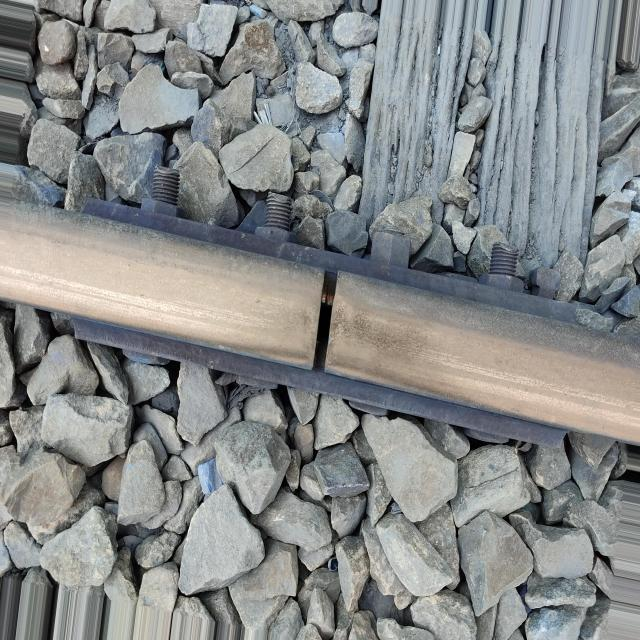Good Joint: (72, 158, 580, 461)
